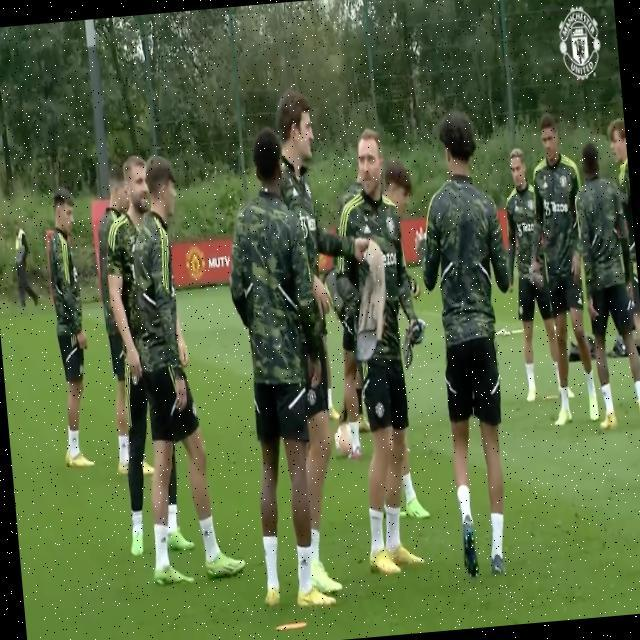Adidas: (299, 554, 310, 571), (203, 526, 212, 540), (363, 221, 372, 235)
